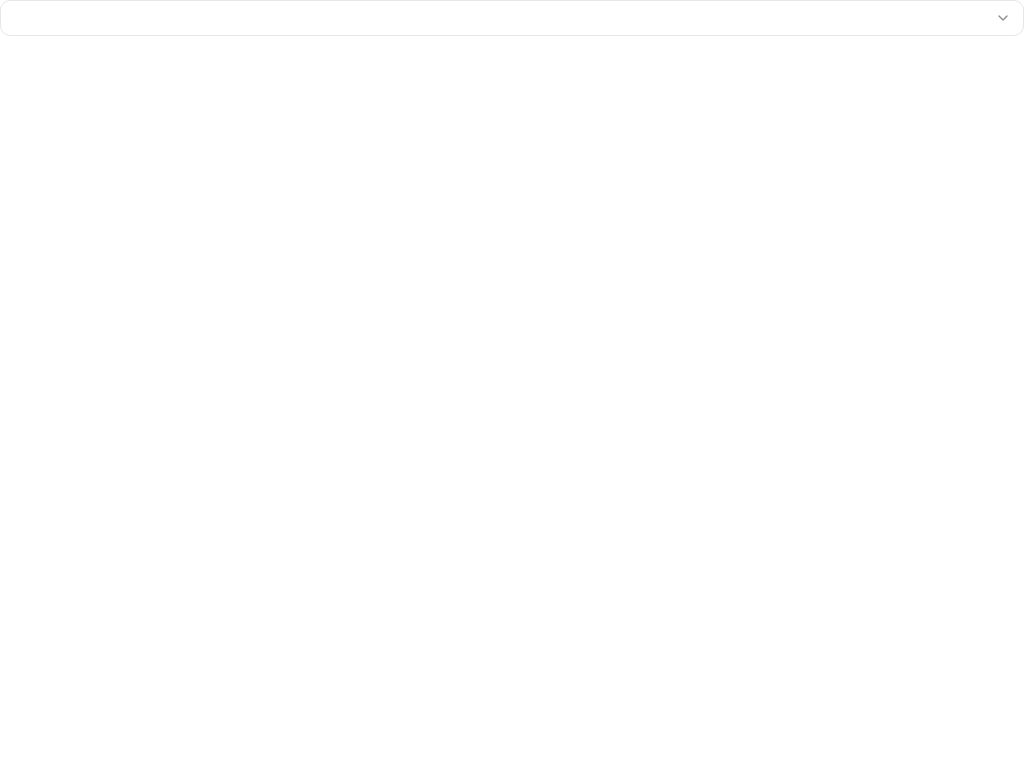
ForeignKeyWidget › renders the relation display description and icon of an option
This screenshot has width=1024, height=768.
Click the button.
click(1003, 18)  # box [0,0,1023,36]
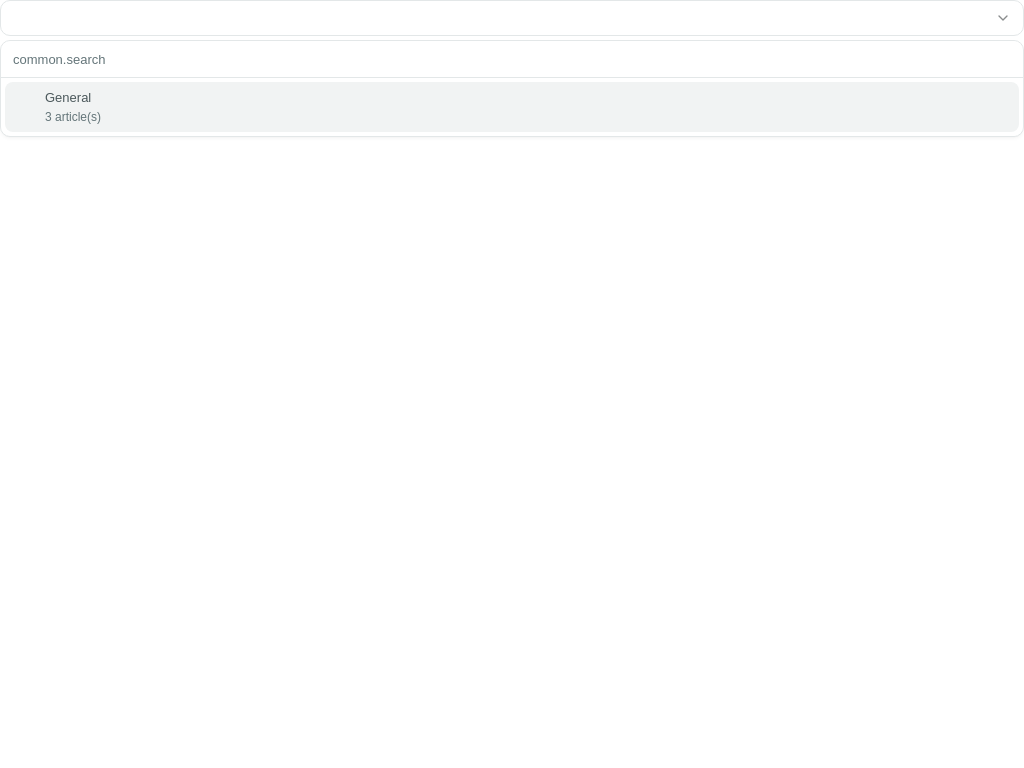
Check: the text "3 article(s)" is shown, box [45,108,101,126]
Check: the text "General" is shown, box [45,90,91,105]
